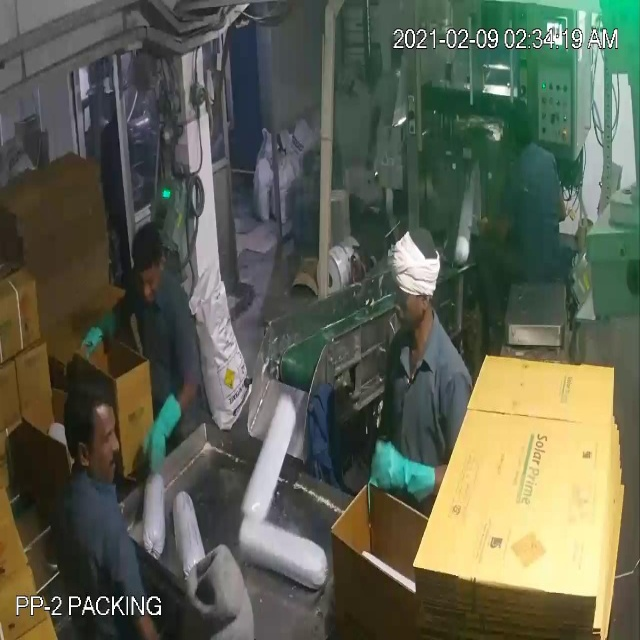Guantes: (360, 424, 440, 514), (130, 387, 191, 485), (78, 305, 129, 363)
